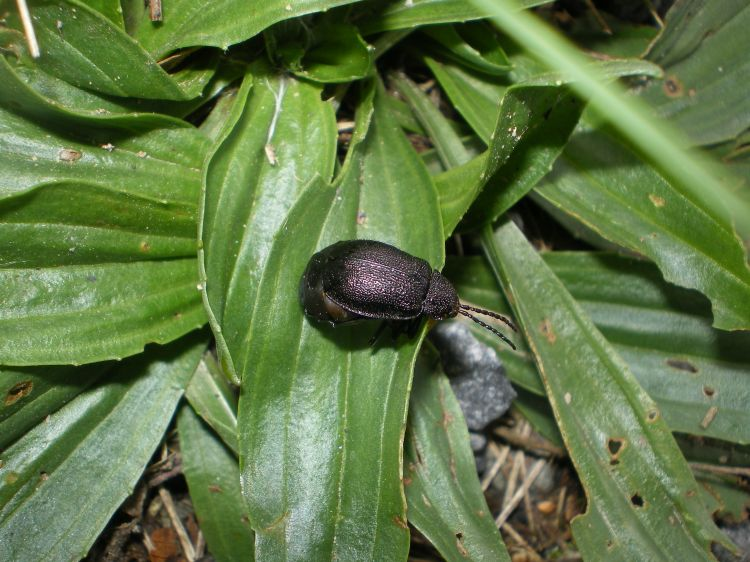Galeruca_tanaceti: (299, 236, 525, 369)
